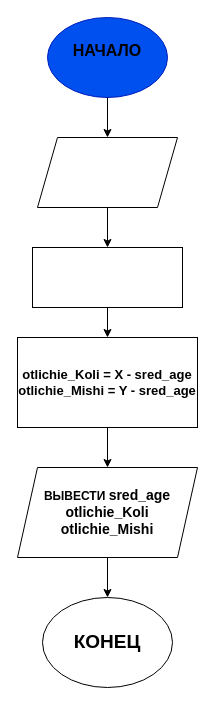
Image size: 215x705. Some labels were removed from this diagram. The centre of each missing label's shape, as x and y in pixels:
"sred_age = (X + Y) / 2.0" belongs at point 107,277.
"X = 11, Y = 12" belongs at point 107,172.
